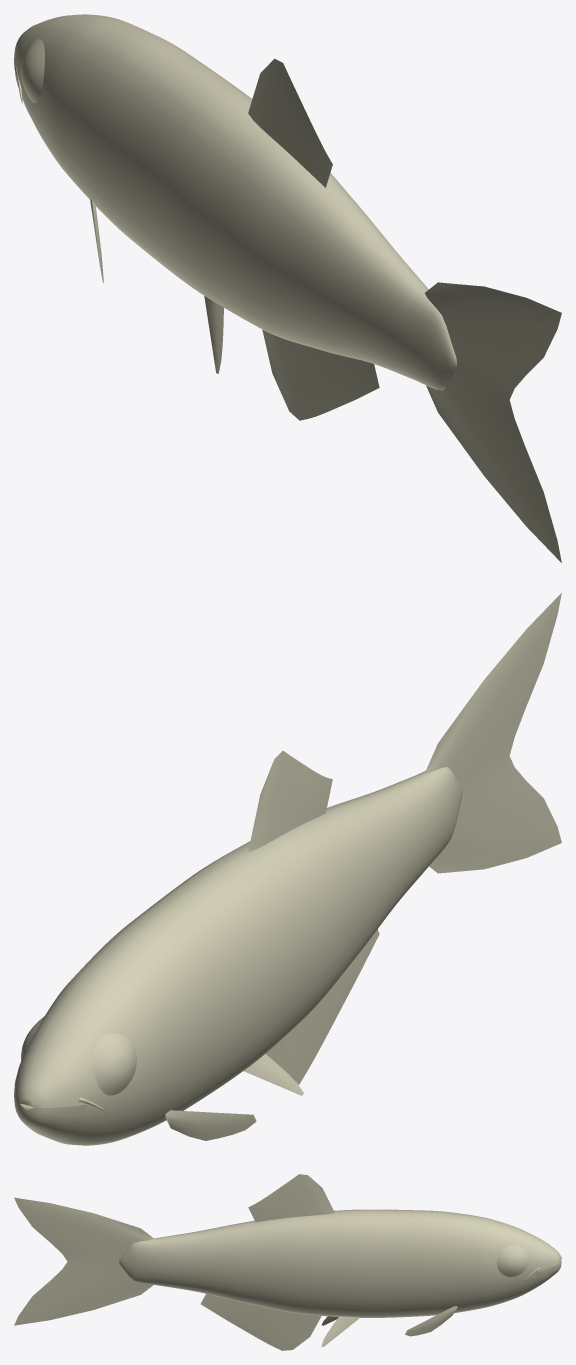
Rendered from zebra_danio.glb.
The picture shows the model from 3 angles, top to bottom: view 1: azimuth 30°, elevation 25°; view 2: azimuth 150°, elevation 25°; view 3: azimuth 270°, elevation 25°; orthographic projection. The views are drawn at different scales.
Parts seen in each view (by area): view 1: zebra_danio; view 2: zebra_danio; view 3: zebra_danio.
Part boxes in pixels (x1=…): zebra_danio: x1=14, y1=14, x2=561, y2=562; zebra_danio: x1=14, y1=593, x2=561, y2=1145; zebra_danio: x1=14, y1=1174, x2=561, y2=1350.
Bounding box in the file's own units: 0.00742 × 0.016 × 0.0448.
